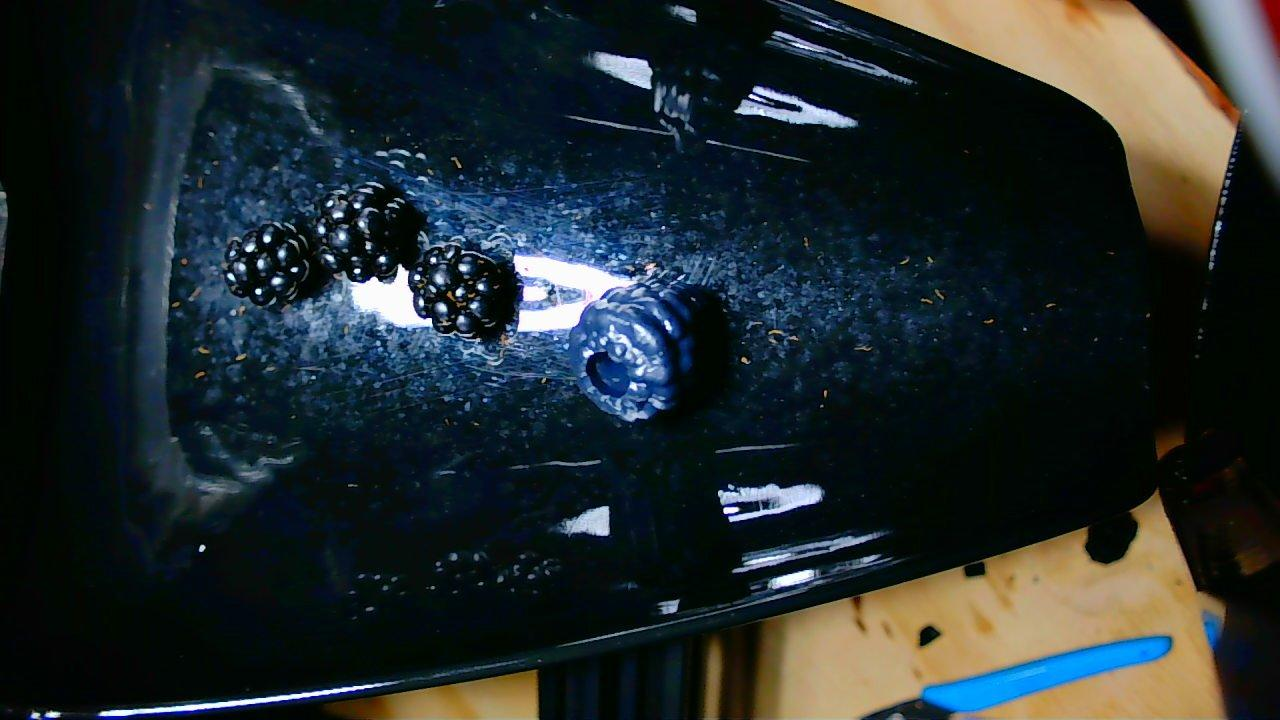berry: (569, 282, 725, 422), (311, 181, 414, 282), (407, 243, 516, 338), (223, 223, 315, 305)
